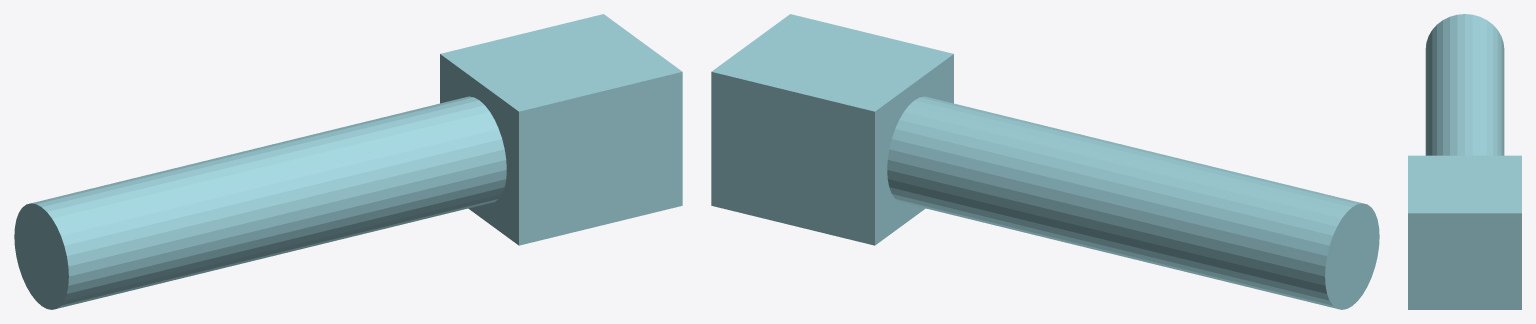
Rendered from cylinder_brush_v9005.obj.
3 views of the same model, side by side, from view 1: azimuth 30°, elevation 25°; view 2: azimuth 150°, elevation 25°; view 3: azimuth 270°, elevation 25° (orthographic). The views are drawn at different scales.
Size of the model in its own units: 0.1968 by 0.0419 by 0.0447.
Materials: 1 (1 with a texture image).
